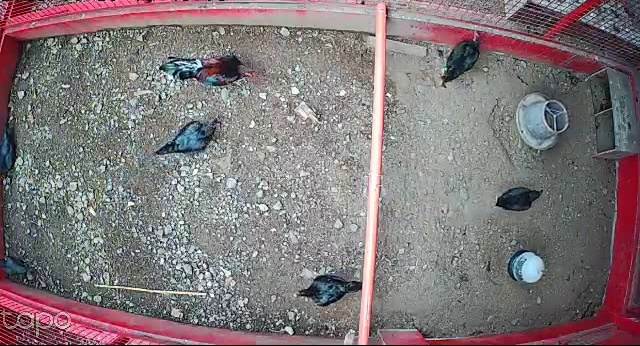Chicken: (155, 112, 223, 158), (293, 269, 366, 308), (441, 31, 483, 89), (493, 184, 547, 213)
Drinker: (507, 250, 546, 284)
Feeder: (516, 90, 571, 151)
Rooster: (157, 52, 260, 88)
